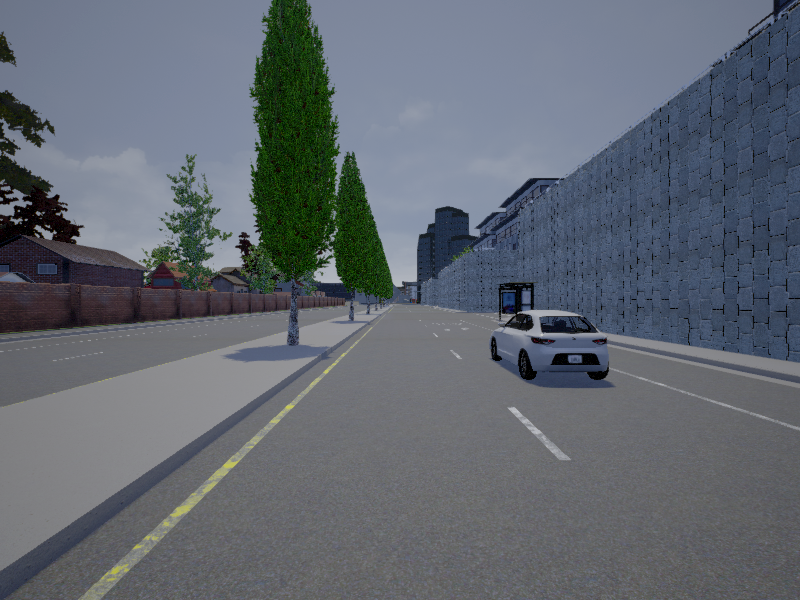Benign: (489, 313, 609, 382)
